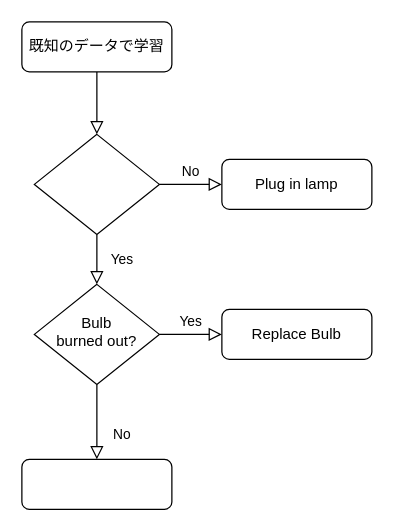
Image size: 394x531. Some labels were removed from this diagram. The shapes that lost their labels are listed below. From the top down, each one's box as (x1, y1, x2, y2) in pixels, then its label:
(33, 133, 159, 234): Lamp plugged in?
(21, 458, 172, 509): Repair Lamp
